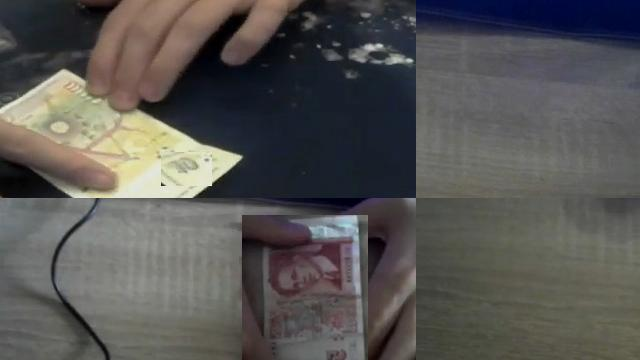10leva: (161, 152, 212, 186)
5leva: (242, 215, 367, 360)
